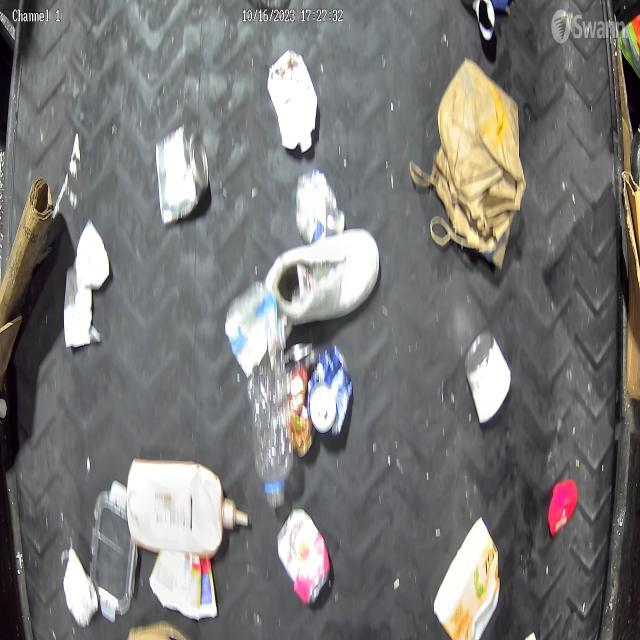can: (270, 508, 330, 609), (153, 109, 205, 218), (463, 326, 511, 426), (308, 338, 352, 446)
milk_jug: (268, 49, 324, 154)
plastic_bottle: (228, 284, 296, 514)
